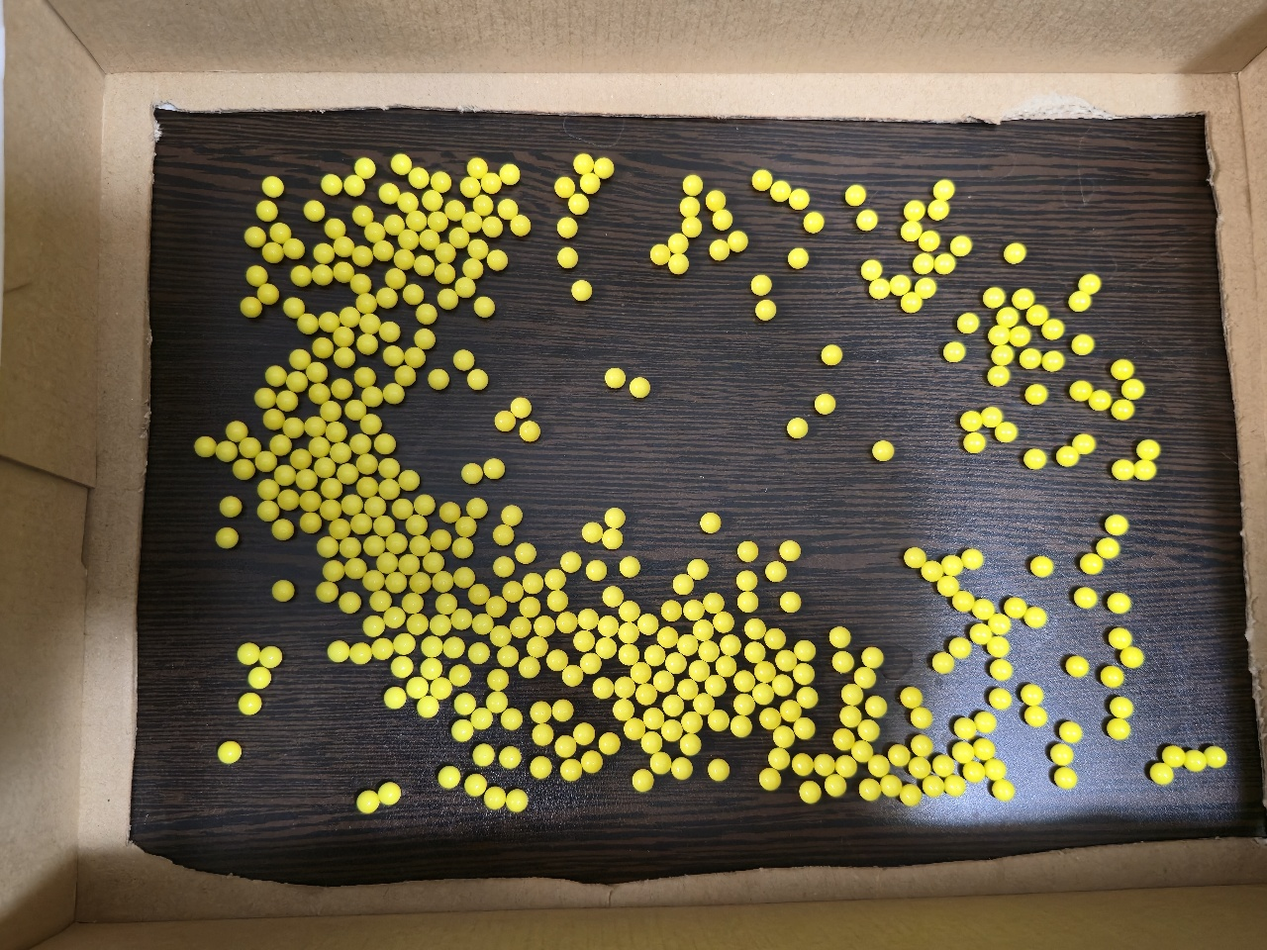yellow_bead: (1082, 279, 1096, 296), (223, 746, 236, 759), (1079, 592, 1093, 604), (489, 792, 501, 805), (1059, 772, 1072, 784), (443, 771, 455, 784), (1055, 749, 1068, 761), (1064, 726, 1077, 738), (994, 693, 1007, 705), (1025, 689, 1038, 701), (995, 664, 1008, 676), (992, 641, 1005, 653), (1114, 632, 1127, 644), (1010, 602, 1022, 615), (362, 796, 374, 808), (383, 788, 395, 800), (927, 781, 939, 793), (914, 762, 926, 774), (937, 760, 949, 772), (773, 753, 785, 765), (893, 750, 905, 762), (957, 746, 969, 758), (856, 745, 868, 757), (778, 731, 790, 743), (1113, 723, 1125, 735), (959, 722, 971, 734), (713, 714, 725, 726), (667, 700, 679, 712), (244, 698, 256, 710), (389, 692, 401, 704), (846, 689, 858, 701), (757, 688, 769, 700), (412, 682, 424, 694), (798, 668, 810, 680), (937, 657, 949, 669), (837, 656, 849, 668), (954, 642, 966, 654), (994, 618, 1006, 630), (938, 184, 950, 196), (829, 779, 840, 792), (1102, 543, 1115, 554), (1029, 453, 1042, 464), (1077, 339, 1090, 350), (1002, 312, 1015, 323), (1009, 247, 1022, 258), (1061, 451, 1075, 461), (1141, 444, 1155, 454), (512, 795, 523, 807), (906, 790, 917, 802), (805, 787, 816, 799), (998, 785, 1010, 796), (676, 762, 687, 774), (873, 761, 885, 772), (478, 749, 489, 761), (685, 738, 696, 750), (646, 736, 657, 748), (578, 728, 589, 740), (863, 724, 874, 736), (666, 724, 677, 736), (799, 722, 810, 734), (735, 720, 746, 732), (648, 712, 659, 724), (476, 712, 487, 724), (1030, 711, 1042, 722), (618, 704, 630, 715), (1116, 702, 1128, 713), (422, 701, 434, 712), (459, 698, 470, 710), (802, 692, 813, 704), (710, 680, 721, 692), (738, 676, 750, 687), (859, 672, 871, 683), (254, 672, 265, 684), (426, 663, 437, 675), (243, 648, 254, 660), (473, 647, 484, 659), (799, 645, 811, 656), (377, 643, 388, 655), (603, 620, 614, 632), (1029, 612, 1041, 623), (978, 604, 990, 615), (1113, 598, 1125, 609), (957, 596, 969, 607), (942, 581, 954, 592), (390, 577, 402, 588), (926, 566, 938, 577), (770, 566, 782, 577), (1117, 464, 1129, 475), (965, 416, 977, 427), (1095, 395, 1107, 406), (1024, 353, 1036, 364), (948, 346, 960, 357), (962, 318, 974, 329), (906, 297, 918, 308), (988, 292, 1000, 303), (955, 240, 967, 251), (906, 225, 918, 236), (861, 215, 873, 226), (1071, 661, 1084, 671), (1110, 520, 1123, 530), (1078, 439, 1091, 449), (1000, 427, 1013, 437), (993, 371, 1006, 381), (1047, 324, 1060, 334), (864, 785, 875, 796), (950, 781, 961, 792), (764, 774, 775, 785), (841, 761, 852, 772), (980, 716, 991, 727), (506, 713, 517, 724), (845, 711, 856, 722), (871, 701, 882, 712), (738, 699, 749, 710), (698, 699, 709, 710), (491, 697, 502, 708), (906, 693, 917, 704), (598, 683, 609, 694), (620, 682, 631, 693), (777, 680, 788, 691), (658, 676, 669, 687), (454, 670, 465, 681), (694, 665, 705, 676), (524, 662, 535, 673), (396, 661, 407, 672), (670, 658, 681, 669), (585, 658, 596, 669), (781, 655, 792, 666), (502, 651, 513, 662), (649, 650, 660, 661), (355, 648, 366, 659), (749, 647, 760, 658), (704, 646, 715, 657), (333, 646, 344, 657), (448, 642, 459, 653), (427, 641, 438, 652), (682, 639, 693, 650), (399, 638, 410, 649), (834, 632, 845, 643), (662, 632, 673, 643), (495, 630, 506, 641), (698, 624, 709, 635), (749, 623, 760, 634), (515, 621, 526, 632), (368, 620, 379, 631), (642, 618, 653, 629), (477, 618, 488, 629), (412, 618, 423, 629), (688, 605, 699, 616), (440, 599, 451, 610), (708, 598, 719, 609), (407, 598, 418, 609), (742, 597, 753, 608), (375, 596, 386, 607), (368, 575, 379, 586), (591, 565, 602, 576), (350, 563, 361, 574), (947, 560, 958, 571), (967, 554, 978, 565), (344, 542, 355, 553), (368, 540, 379, 551), (987, 412, 998, 423), (1049, 355, 1060, 366), (1032, 310, 1043, 321), (1018, 294, 1029, 305), (874, 283, 885, 294), (920, 282, 931, 293), (895, 279, 906, 290), (866, 264, 877, 275), (939, 258, 950, 269), (793, 252, 804, 263), (775, 185, 786, 196), (267, 181, 278, 192), (327, 179, 338, 190), (414, 172, 425, 183), (1155, 768, 1165, 780), (565, 764, 575, 776), (655, 757, 665, 769), (1211, 751, 1221, 763), (537, 728, 547, 740), (457, 724, 467, 736), (436, 683, 446, 695), (493, 674, 503, 686), (344, 597, 354, 609), (910, 553, 922, 563), (997, 350, 1009, 360), (918, 257, 928, 269), (688, 179, 698, 191), (360, 162, 370, 174), (886, 782, 897, 792), (470, 779, 481, 789), (714, 765, 724, 776), (536, 762, 546, 773), (980, 743, 990, 754), (560, 741, 570, 752), (536, 707, 546, 718), (785, 706, 796, 716), (641, 689, 651, 700), (567, 670, 577, 681), (759, 667, 769, 678), (721, 661, 731, 672), (551, 655, 562, 665), (867, 653, 878, 663), (624, 649, 634, 660), (601, 642, 611, 653), (579, 635, 589, 646), (624, 627, 634, 638), (435, 619, 445, 630), (718, 617, 729, 627), (561, 617, 572, 627), (456, 614, 467, 624), (389, 612, 400, 622), (666, 606, 676, 617), (624, 606, 634, 617), (552, 596, 563, 606), (473, 589, 484, 599), (322, 587, 333, 597), (278, 586, 289, 596), (678, 579, 688, 590), (416, 577, 426, 588), (741, 576, 752, 586), (550, 574, 560, 585), (498, 562, 509, 572), (404, 559, 414, 570), (565, 557, 576, 567), (428, 557, 439, 567), (382, 557, 392, 568), (457, 542, 468, 552), (391, 538, 402, 548), (608, 533, 618, 544), (498, 529, 508, 540), (587, 527, 598, 537), (378, 521, 389, 531), (411, 520, 422, 530), (356, 519, 367, 529), (397, 504, 408, 514), (369, 502, 380, 512), (419, 500, 429, 511), (346, 500, 357, 510), (384, 484, 395, 494), (404, 475, 415, 485), (301, 474, 312, 484), (279, 470, 290, 480), (320, 462, 330, 473), (361, 459, 372, 469), (365, 419, 376, 429), (350, 405, 361, 415), (388, 388, 399, 398), (472, 374, 482, 385), (827, 349, 837, 360), (420, 333, 430, 344), (344, 312, 355, 322), (760, 305, 771, 315), (479, 302, 489, 313), (381, 293, 392, 303), (715, 244, 725, 255), (673, 238, 683, 249), (924, 236, 935, 246), (687, 221, 697, 232), (809, 217, 819, 228), (467, 217, 477, 228), (261, 206, 272, 216), (932, 205, 943, 215), (909, 205, 920, 215), (503, 204, 513, 215), (685, 202, 695, 213), (478, 200, 488, 211), (403, 197, 413, 208), (428, 195, 438, 206), (794, 194, 805, 204), (850, 190, 860, 201), (384, 188, 394, 199), (349, 180, 359, 191), (757, 174, 767, 185), (599, 162, 609, 173), (396, 159, 406, 170), (578, 158, 588, 169), (639, 775, 648, 787), (820, 759, 829, 771), (586, 756, 595, 768), (726, 639, 735, 651), (1036, 563, 1048, 572), (1126, 384, 1139, 392), (557, 706, 567, 716), (539, 621, 549, 631), (525, 603, 535, 613), (491, 602, 501, 612), (785, 597, 795, 607), (608, 592, 618, 602), (508, 587, 518, 597), (438, 577, 448, 587), (459, 572, 469, 582), (329, 566, 339, 576), (625, 562, 635, 572), (521, 548, 531, 558), (785, 546, 795, 556), (742, 546, 752, 556), (323, 542, 333, 552), (415, 540, 425, 550), (610, 513, 620, 523), (507, 511, 517, 521), (263, 506, 273, 516), (342, 469, 352, 479), (1141, 465, 1151, 475), (489, 464, 499, 474), (314, 442, 324, 452), (326, 406, 336, 416), (516, 403, 526, 413), (820, 399, 830, 409), (367, 392, 377, 402), (634, 383, 644, 393), (610, 373, 620, 383), (400, 371, 410, 381), (312, 367, 322, 377), (295, 354, 305, 364), (388, 351, 398, 361), (324, 317, 334, 327), (442, 294, 452, 304), (408, 289, 418, 299), (460, 282, 470, 292), (756, 280, 766, 290), (318, 269, 328, 279), (439, 268, 449, 278), (419, 260, 429, 270), (673, 258, 683, 268), (562, 252, 572, 262), (357, 250, 367, 260), (655, 249, 665, 259), (319, 248, 329, 258), (289, 243, 299, 253), (732, 236, 742, 246), (425, 235, 435, 245), (369, 228, 379, 238), (487, 222, 497, 232), (389, 220, 399, 230), (718, 215, 728, 225), (309, 206, 319, 216), (573, 199, 583, 209), (711, 195, 721, 205), (559, 182, 569, 192), (465, 182, 475, 192), (585, 178, 595, 188), (505, 169, 515, 179), (472, 162, 482, 172), (992, 764, 1001, 775), (532, 641, 541, 652), (528, 578, 537, 589), (277, 524, 288, 533), (471, 504, 482, 513), (326, 483, 337, 492), (260, 456, 271, 465), (336, 447, 345, 458), (221, 446, 232, 455), (244, 442, 255, 451), (379, 439, 390, 448), (355, 439, 366, 448), (276, 439, 285, 450), (458, 355, 469, 364), (993, 331, 1004, 340), (364, 319, 375, 328), (577, 285, 586, 296), (411, 216, 422, 225), (450, 205, 459, 216), (919, 712, 927, 724), (604, 739, 613, 749), (583, 615, 593, 624), (222, 533, 232, 542), (335, 523, 344, 533), (460, 522, 470, 531), (444, 508, 454, 517), (325, 505, 335, 514), (226, 502, 236, 511), (283, 495, 292, 505), (263, 485, 273, 494), (362, 482, 371, 492), (467, 469, 477, 478), (384, 463, 394, 472), (331, 427, 341, 436), (232, 427, 242, 436), (288, 423, 298, 432), (310, 422, 320, 431), (282, 396, 291, 406), (434, 374, 443, 384), (271, 371, 280, 381), (410, 352, 420, 361), (339, 352, 349, 361), (362, 339, 372, 348), (384, 327, 394, 336), (422, 309, 431, 319), (390, 273, 400, 282), (251, 271, 261, 280), (468, 263, 477, 273), (492, 255, 502, 264), (399, 254, 409, 263), (440, 247, 449, 257), (378, 245, 388, 254), (473, 244, 483, 253), (339, 241, 348, 251), (454, 233, 464, 242), (250, 232, 260, 241), (562, 223, 572, 232), (516, 220, 525, 230), (357, 211, 366, 221), (486, 178, 496, 187), (969, 770, 980, 778), (504, 752, 512, 763), (690, 716, 697, 728), (1030, 389, 1042, 396), (1129, 654, 1138, 663), (706, 518, 715, 527), (306, 496, 315, 505), (500, 417, 509, 426), (1075, 386, 1084, 395), (303, 319, 312, 328), (289, 303, 298, 312), (436, 177, 445, 186), (200, 442, 210, 450), (525, 427, 535, 435), (260, 393, 268, 403), (355, 279, 365, 287), (296, 271, 306, 279), (403, 235, 413, 243), (838, 734, 845, 745), (769, 713, 776, 724), (686, 684, 693, 695), (773, 633, 780, 644), (975, 628, 982, 639), (968, 437, 975, 448), (1192, 755, 1198, 767), (437, 535, 445, 544), (306, 518, 315, 526), (268, 415, 277, 423), (292, 377, 301, 385), (361, 299, 370, 307), (339, 267, 347, 276), (433, 217, 442, 225), (314, 389, 324, 396), (330, 224, 340, 231), (697, 564, 703, 575), (1074, 296, 1080, 307), (360, 372, 368, 380), (1086, 559, 1095, 566), (239, 464, 246, 473), (339, 332, 348, 339), (1017, 331, 1026, 338), (275, 228, 284, 235), (1170, 754, 1180, 760), (797, 423, 803, 433), (883, 445, 888, 456), (318, 342, 327, 348), (245, 303, 254, 309), (633, 723, 639, 731), (338, 384, 346, 390), (263, 289, 271, 295), (1117, 364, 1126, 369), (268, 247, 277, 252), (639, 668, 645, 675), (296, 454, 304, 459), (1117, 405, 1125, 409), (800, 759, 805, 764), (919, 740, 925, 744), (923, 749, 926, 752), (273, 652, 276, 655), (265, 652, 268, 655), (634, 732, 636, 735), (803, 769, 805, 771), (265, 660, 267, 662), (264, 656, 265, 659), (270, 651, 272, 652)
